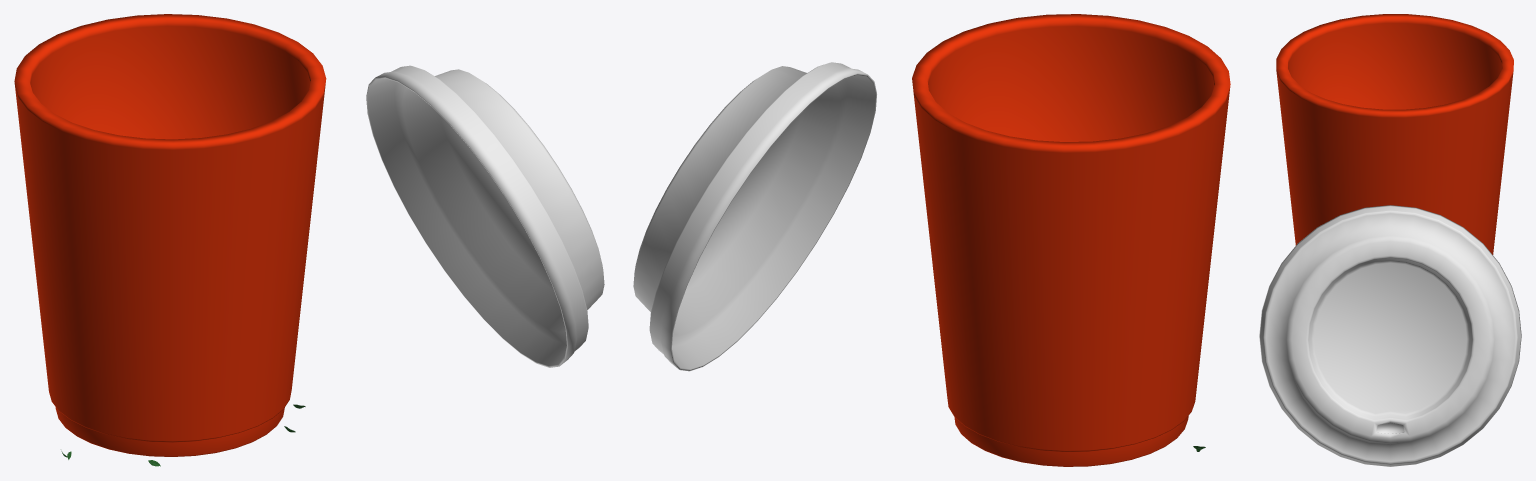
Rendered from marley.glb.
3 views of the same model, side by side, from view 1: azimuth 30°, elevation 25°; view 2: azimuth 150°, elevation 25°; view 3: azimuth 270°, elevation 25° (orthographic). The views are drawn at different scales.
Parts seen in each view (by area): view 1: Cylinder, tapa; view 2: Cylinder, tapa; view 3: tapa, Cylinder.
Boxes of the visible parts, box(x1,y1,x2,y2) form: Cylinder: box(14, 14, 326, 456); tapa: box(366, 65, 604, 367); Cylinder: box(912, 14, 1230, 466); tapa: box(633, 62, 876, 371); tapa: box(1259, 205, 1521, 466); Cylinder: box(1276, 14, 1513, 254).
Size of the model in its own units: 4.45 by 2.87 by 2.5.
